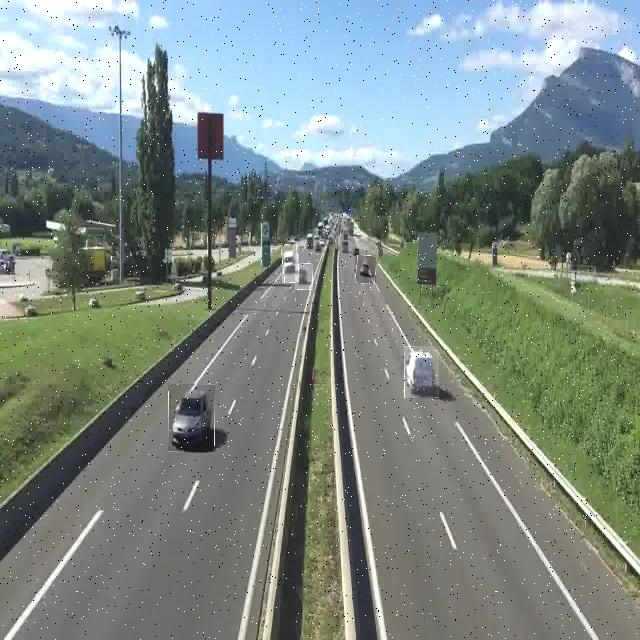Car: (168, 384, 215, 452), (404, 346, 439, 398), (282, 245, 299, 283), (355, 256, 376, 284), (295, 264, 313, 290)
